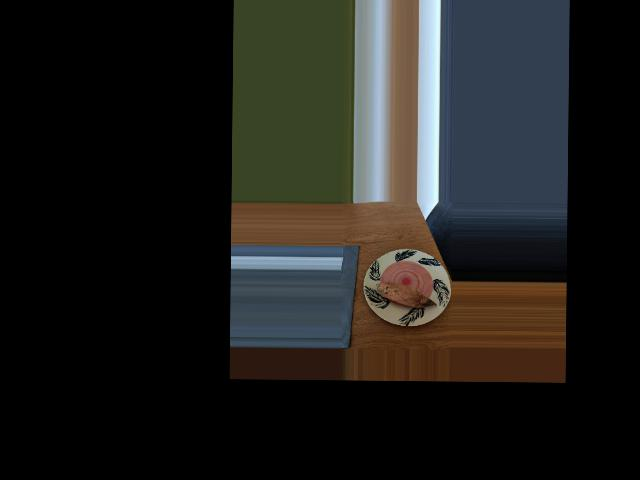sweet_potato: (378, 278, 431, 312)
